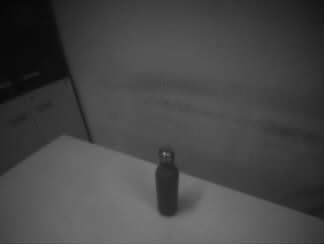Bottle: (155, 144, 179, 216)
